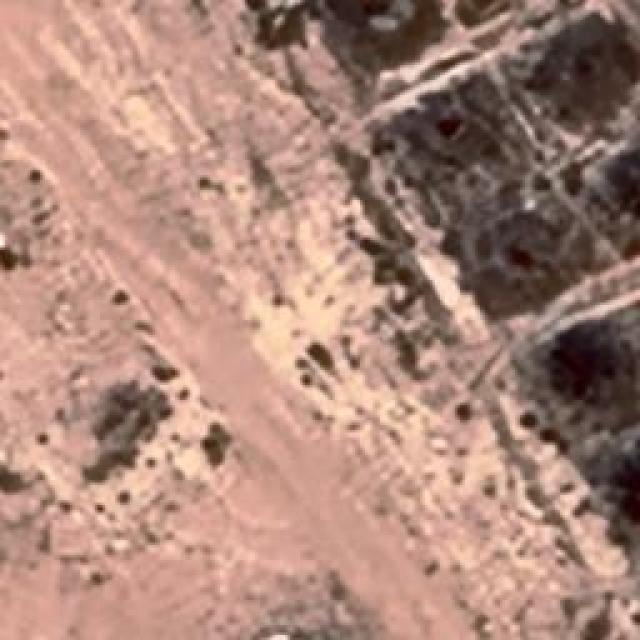PalmTree: (32, 76, 624, 366), (612, 440, 640, 528), (620, 439, 640, 524)
